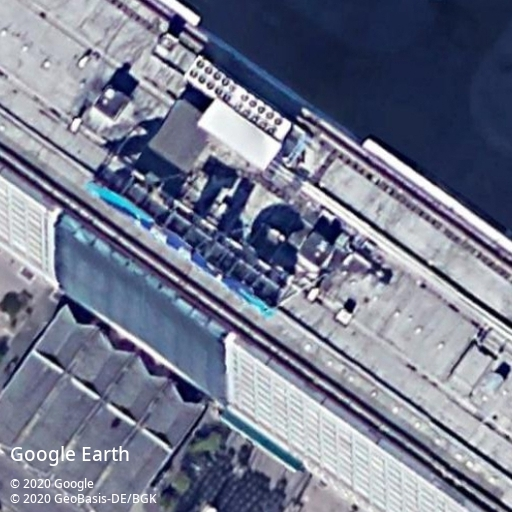Chiller: (184, 55, 292, 142)
